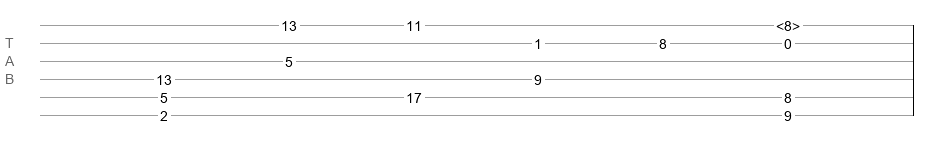0: (784, 36, 792, 46)
1: (534, 36, 542, 46)
11: (406, 18, 422, 28)
13: (156, 72, 172, 82), (281, 18, 297, 28)
17: (406, 90, 422, 100)
2: (160, 108, 168, 118)
5: (160, 90, 168, 100), (285, 54, 293, 64)
8: (659, 36, 667, 46), (784, 90, 792, 100)
9: (534, 72, 542, 82), (784, 108, 792, 118)
harmonic: (776, 18, 800, 28)
